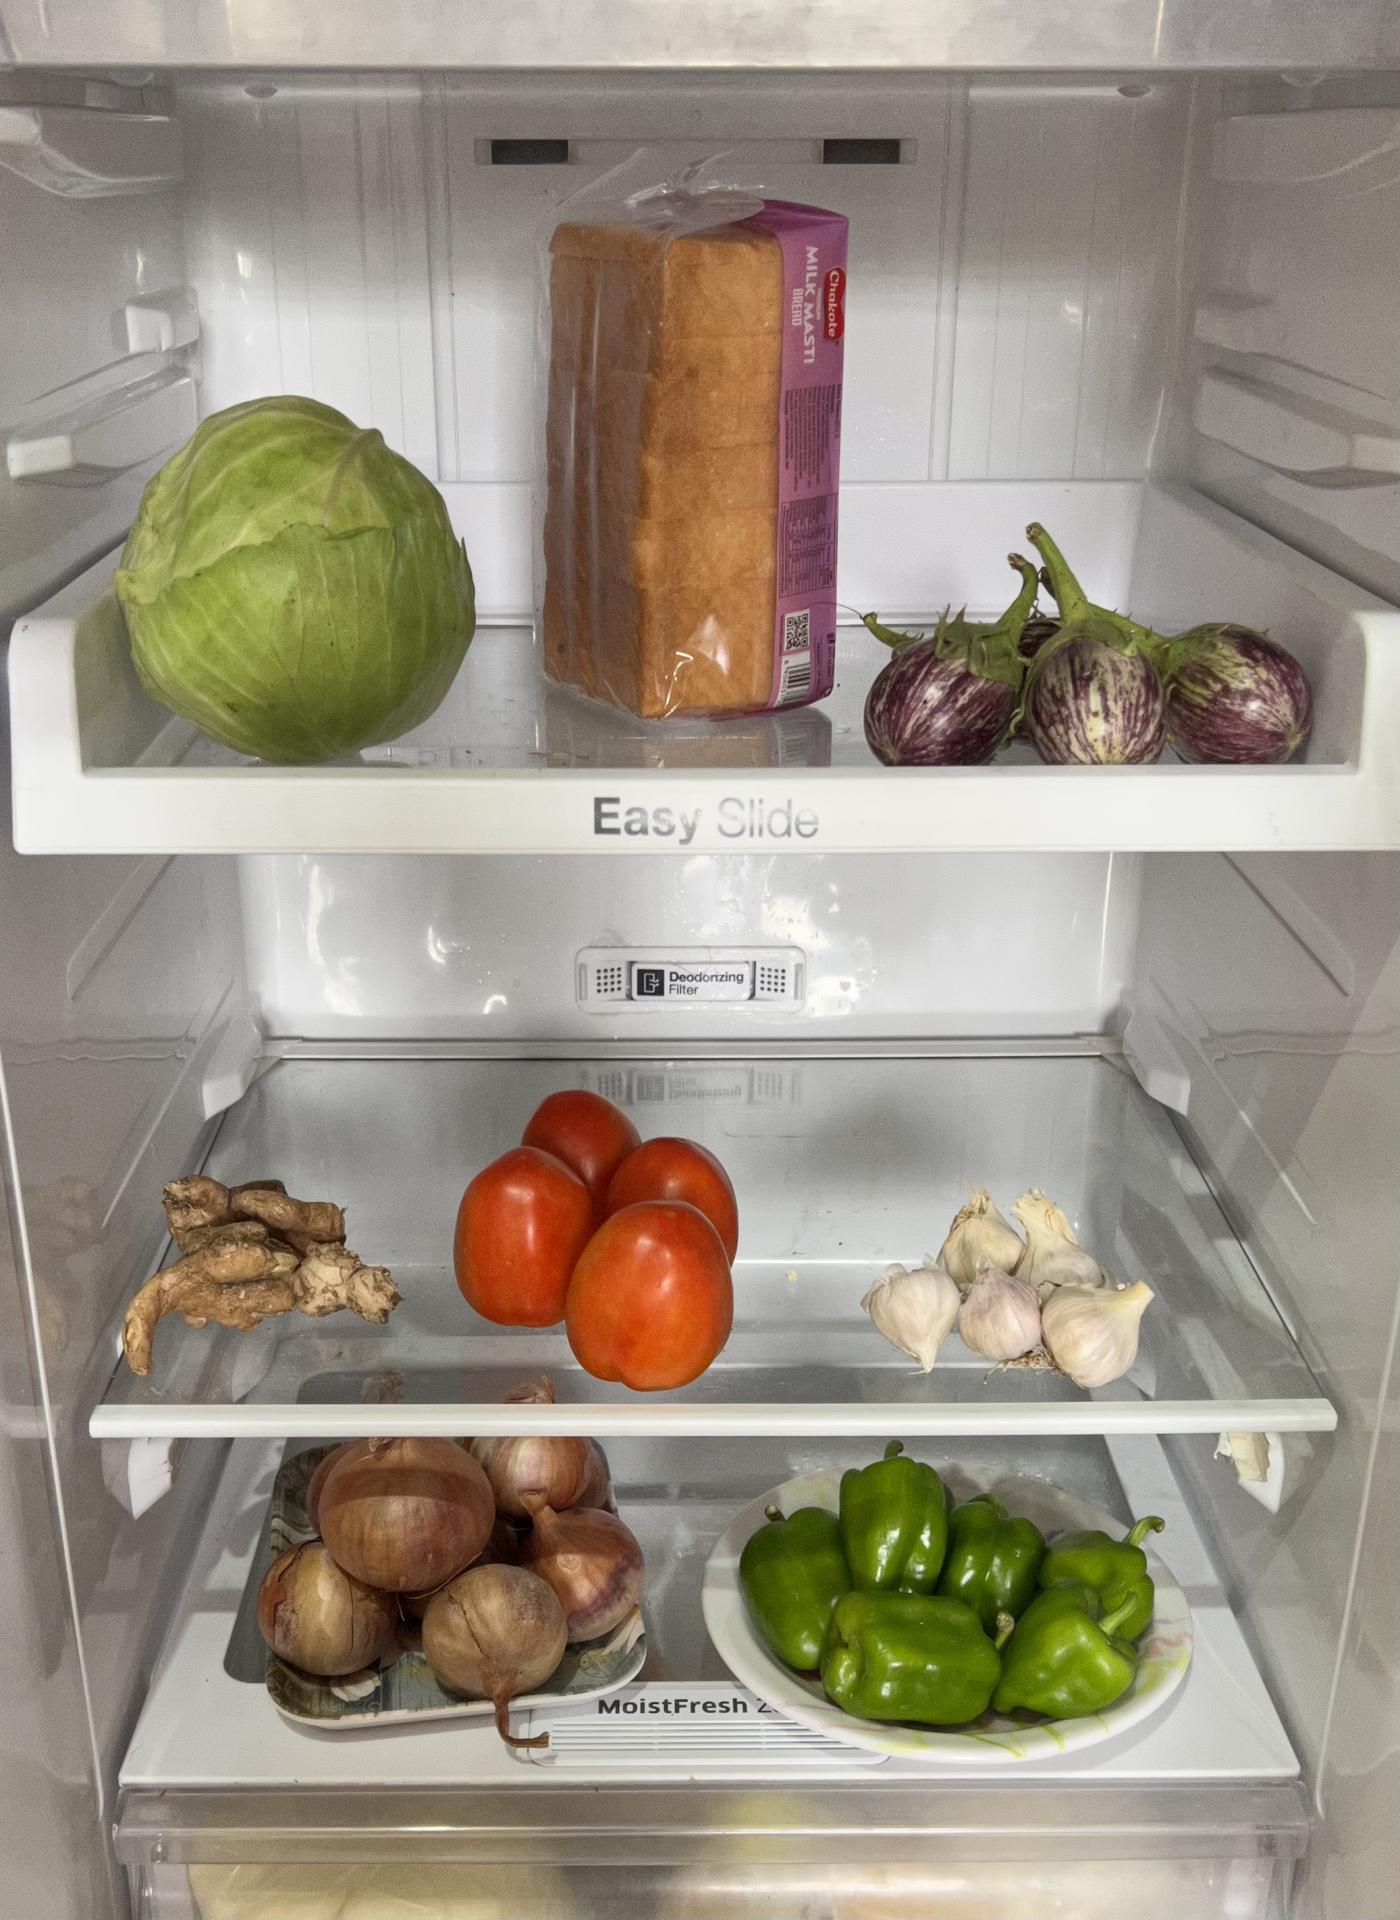bread: (537, 162, 841, 729)
cabbage: (118, 391, 462, 742)
capsicum: (748, 1455, 1157, 1735)
garlic: (866, 1182, 1167, 1391)
ginger: (119, 1160, 392, 1374)
onion: (262, 1437, 638, 1699)
tomato: (447, 1079, 747, 1386)
